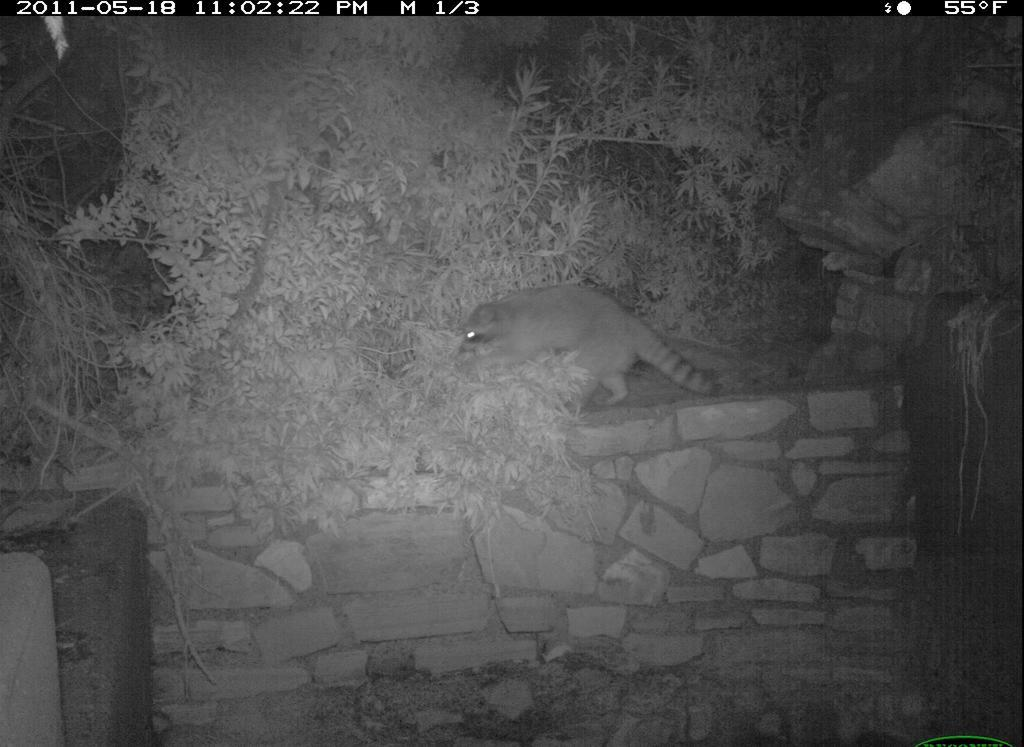raccoon: (449, 277, 733, 438)
